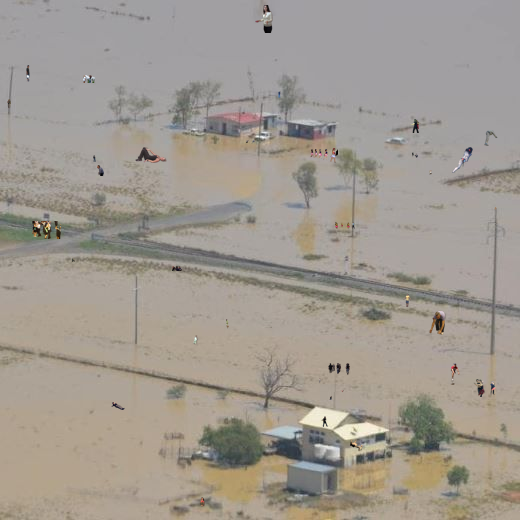Human: (452, 147, 473, 173), (32, 221, 61, 239), (135, 147, 167, 163), (473, 379, 501, 397), (255, 5, 273, 33), (310, 148, 338, 166), (429, 311, 446, 335), (328, 363, 350, 375), (448, 363, 460, 385), (484, 130, 498, 146), (350, 439, 363, 452), (329, 390, 344, 401), (410, 119, 421, 133), (111, 401, 125, 410), (335, 222, 350, 229), (403, 294, 411, 307), (83, 75, 95, 83), (193, 335, 199, 348), (97, 165, 104, 176), (321, 416, 328, 427), (26, 65, 30, 82), (199, 497, 205, 508), (412, 152, 418, 162), (172, 266, 182, 271), (7, 99, 11, 109), (226, 319, 229, 329), (317, 378, 323, 383), (246, 140, 255, 143), (278, 91, 281, 98), (352, 222, 355, 229), (93, 155, 96, 162), (429, 170, 432, 175), (72, 258, 75, 262), (494, 207, 497, 210)
